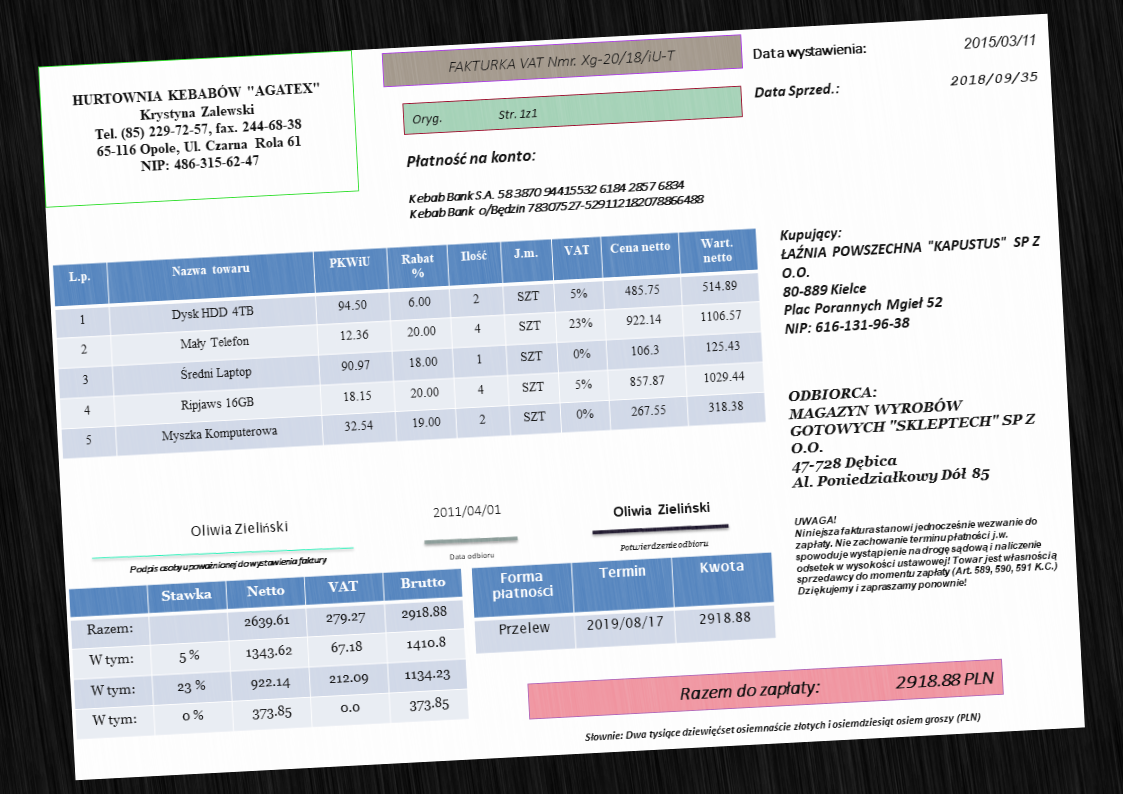Table: (50, 227, 768, 460), (67, 568, 470, 741), (470, 550, 777, 656)
TextBox: (776, 213, 1047, 339), (784, 375, 1041, 494), (67, 73, 327, 182), (792, 499, 1062, 598), (581, 706, 984, 747), (405, 174, 707, 222), (676, 665, 996, 705), (442, 46, 678, 76), (126, 552, 330, 578), (402, 146, 538, 172), (750, 38, 869, 66), (408, 103, 541, 128), (186, 516, 292, 540), (609, 498, 712, 520), (946, 67, 1040, 91), (752, 79, 842, 102), (616, 536, 711, 554), (961, 30, 1038, 52), (431, 501, 503, 522), (446, 549, 496, 562)
